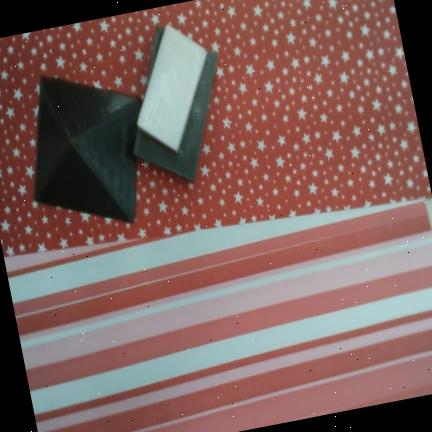Paralelepipedo: (132, 23, 218, 183), (137, 24, 208, 154)
Piramide: (34, 75, 143, 223)
